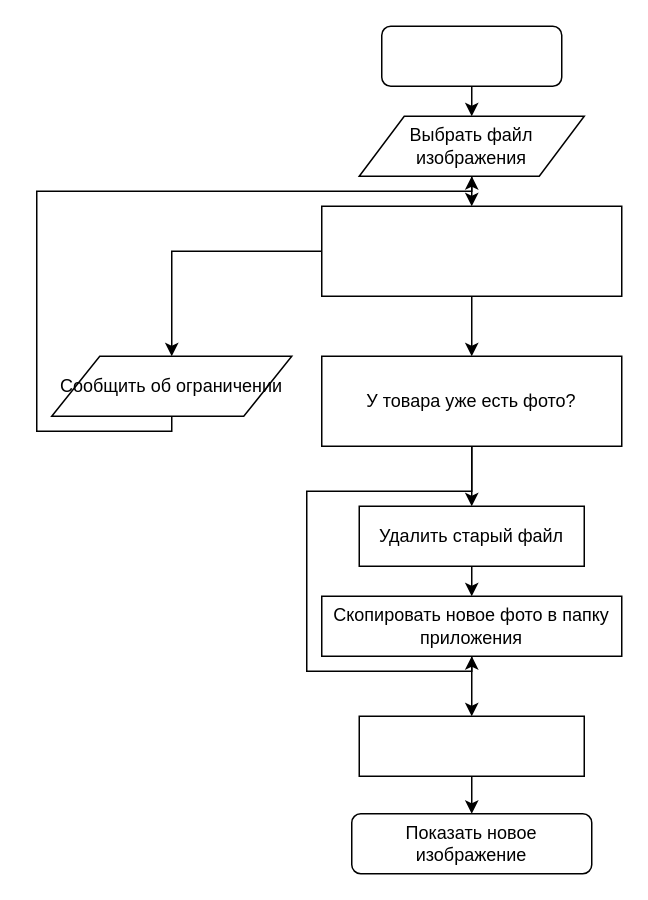
Some shapes in this 648 by 900 pixel diagram are drawn without their labels. The shapes that lost their labels are listed below. From the top down, each one's centre as x and y in pixels, then its label:
At point 471,55: "Форма товара".
At point 471,250: "Размер не больше 300×200?".
At point 471,745: "Сохранить путь к фото в БД".
